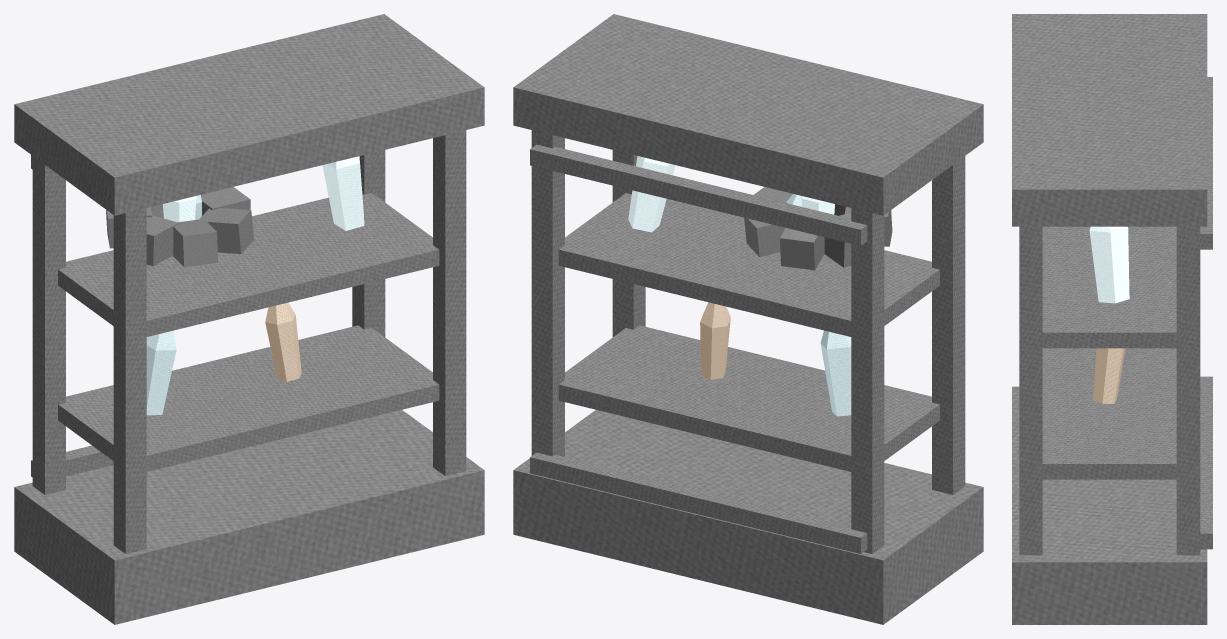
The model's file is decor-mineral-display-case.glb.
3 views of the same model, side by side, from view 1: azimuth 30°, elevation 25°; view 2: azimuth 150°, elevation 25°; view 3: azimuth 270°, elevation 25° (orthographic). The views are drawn at different scales.
Visible parts, largest first — view 1: base, top, shelf-0.49, shelf-0.95, post--0.57-0.25, post-0.57-0.25, post--0.57--0.25, post-0.57--0.25, specimen-c, specimen-b, specimen-a, geode-shell-UnityEngine.Vector3-2 (+5 smaller); view 2: top, base, shelf-0.49, shelf-0.95, post--0.57--0.25, post--0.57-0.25, post-0.57--0.25, lower-trim, upper-trim, specimen-a, post-0.57-0.25, specimen-b (+4 smaller); view 3: top, base, shelf-0.49, shelf-0.95, post-0.57--0.25, post-0.57-0.25, specimen-c, lower-trim, specimen-b, upper-trim.
Part boxes in pixels (left/top/right/bottom): base: left=14, top=410, right=484, bottom=624; top: left=14, top=14, right=484, bottom=215; shelf-0.49: left=58, top=325, right=439, bottom=471; shelf-0.95: left=58, top=193, right=439, bottom=336; post--0.57-0.25: left=113, top=208, right=146, bottom=553; post-0.57-0.25: left=433, top=130, right=466, bottom=476; post--0.57--0.25: left=32, top=156, right=65, bottom=494; post-0.57--0.25: left=352, top=150, right=385, bottom=336; specimen-c: left=322, top=156, right=364, bottom=230; specimen-b: left=265, top=302, right=301, bottom=381; specimen-a: left=146, top=331, right=176, bottom=415; geode-shell-UnityEngine.Vector3-2: left=173, top=219, right=217, bottom=267; top: left=513, top=14, right=983, bottom=215; base: left=513, top=410, right=983, bottom=624; shelf-0.49: left=558, top=325, right=939, bottom=471; shelf-0.95: left=558, top=193, right=939, bottom=336; post--0.57--0.25: left=851, top=208, right=884, bottom=553; post--0.57-0.25: left=932, top=156, right=965, bottom=494; post-0.57--0.25: left=531, top=130, right=564, bottom=456; lower-trim: left=530, top=452, right=867, bottom=553; upper-trim: left=530, top=144, right=867, bottom=245; specimen-a: left=820, top=330, right=851, bottom=416; post-0.57-0.25: left=612, top=150, right=645, bottom=336; specimen-b: left=700, top=302, right=730, bottom=379; top: left=1012, top=14, right=1207, bottom=226; base: left=1012, top=386, right=1207, bottom=624; shelf-0.49: left=1042, top=348, right=1176, bottom=479; shelf-0.95: left=1042, top=226, right=1176, bottom=348; post-0.57--0.25: left=1176, top=226, right=1200, bottom=555; post-0.57-0.25: left=1019, top=226, right=1042, bottom=555; specimen-c: left=1089, top=226, right=1129, bottom=303; lower-trim: left=1200, top=376, right=1212, bottom=549; specimen-b: left=1093, top=348, right=1125, bottom=403; upper-trim: left=1200, top=77, right=1212, bottom=249.
Size of the model in its own units: 1.32 by 1.53 by 0.6375.
10 materials, 10 textured.
